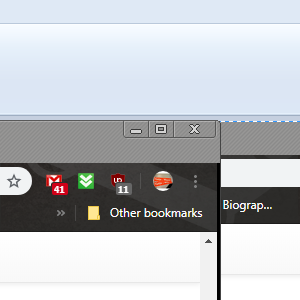close: (173, 120, 215, 138)
